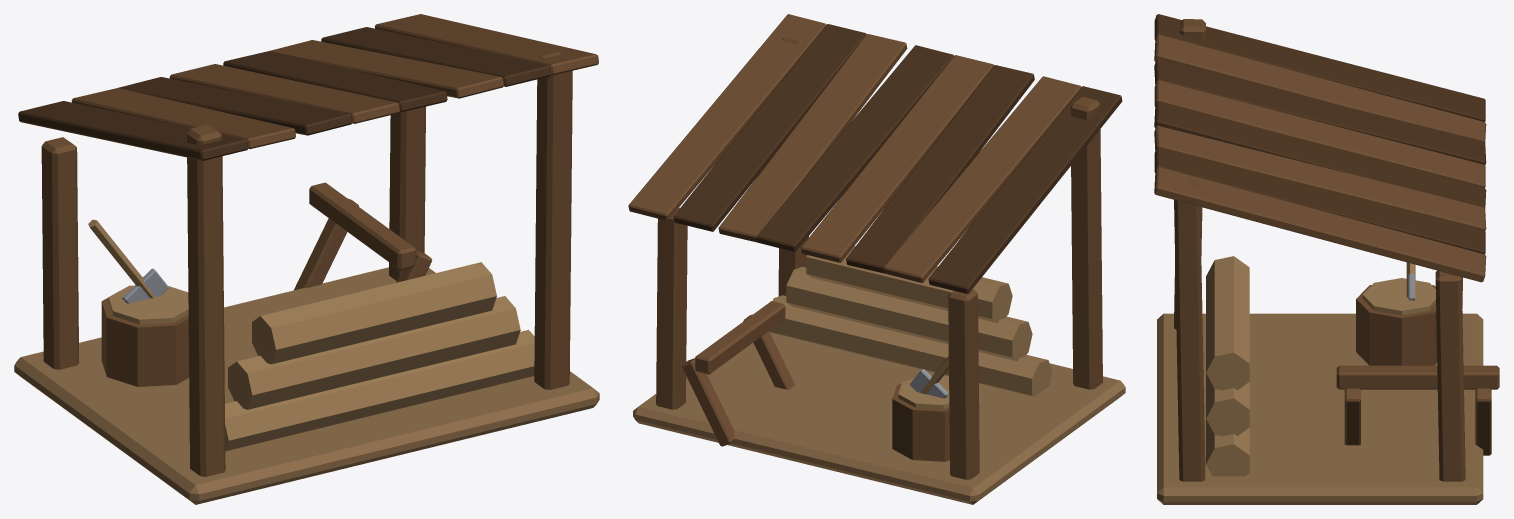
The model's file is woodcutter.fbx.
3 views of the same model, side by side, from view 1: azimuth 30°, elevation 25°; view 2: azimuth 150°, elevation 25°; view 3: azimuth 270°, elevation 25° (orthographic). The views are drawn at different scales.
Parts seen in each view (by area): view 1: Building; view 2: Building; view 3: Building.
Boxes of the visible parts, x1,y1,x2,y2 form: Building: (14,14,599,504); Building: (628,14,1125,504); Building: (1154,14,1499,504).
Bounding box in the file's own units: 1.31 × 1.06 × 1.08.
